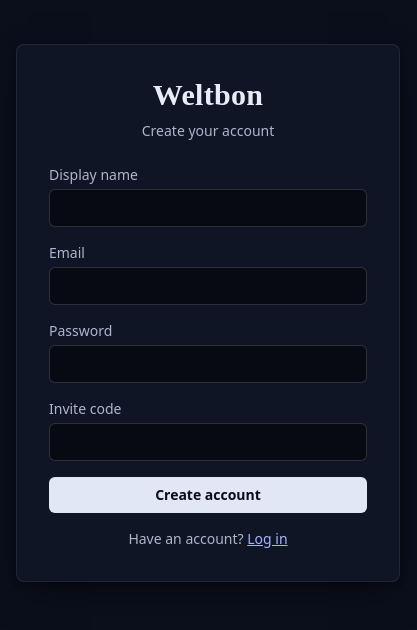
Test: Register view › tells the user to ask the admin for a new invite when the code is rejected
Step 1. Type "Alice" into the field labelled "Display name" → [208, 208], box [49,189,367,227]
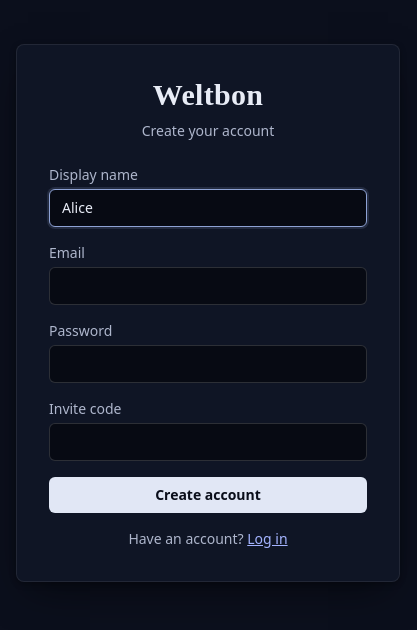
Step 2. Type "alice@test.com" into the field labelled "Email" → [208, 286], box [49,267,367,305]
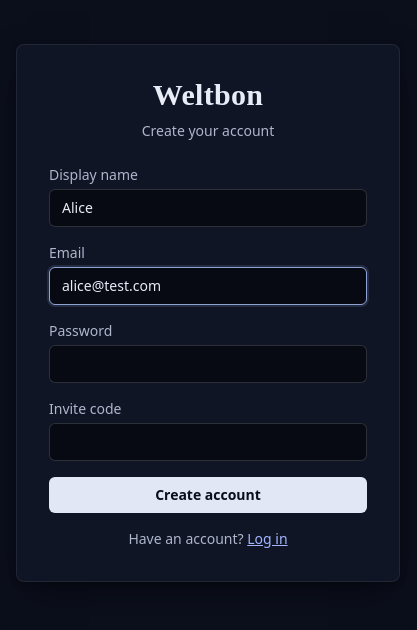
Step 3. Type "longenoughpw12" into the password field labelled "Password" → [208, 364], box [49,345,367,383]
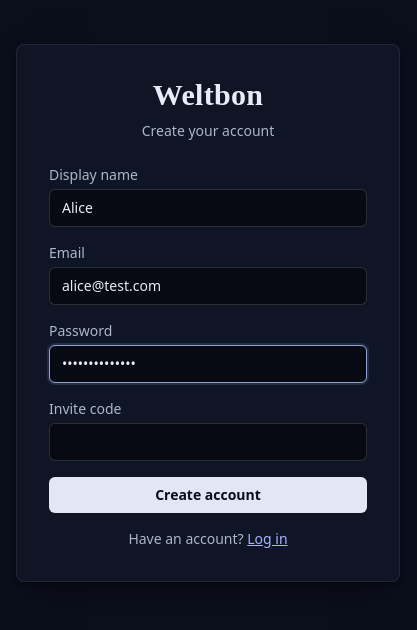
Step 4. Type "USED" into the field labelled "Invite code" → [208, 442], box [49,423,367,461]
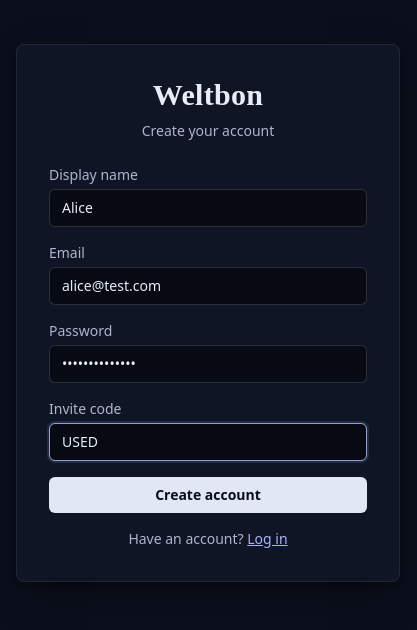
Step 5. Click the button "Create account" → [208, 495], box [49,477,367,513]
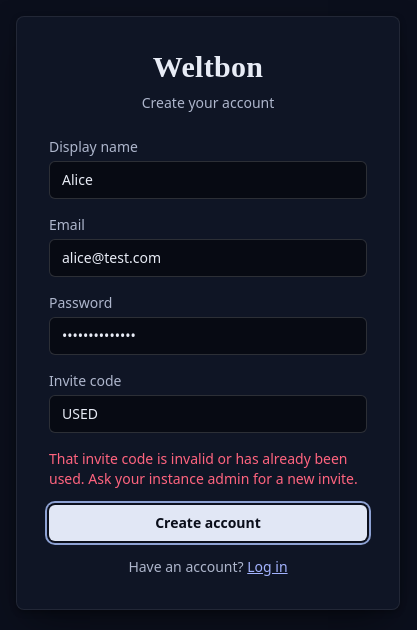
Expected: the message shows "ask your instance admin for a new invite", [49,449,358,488]
